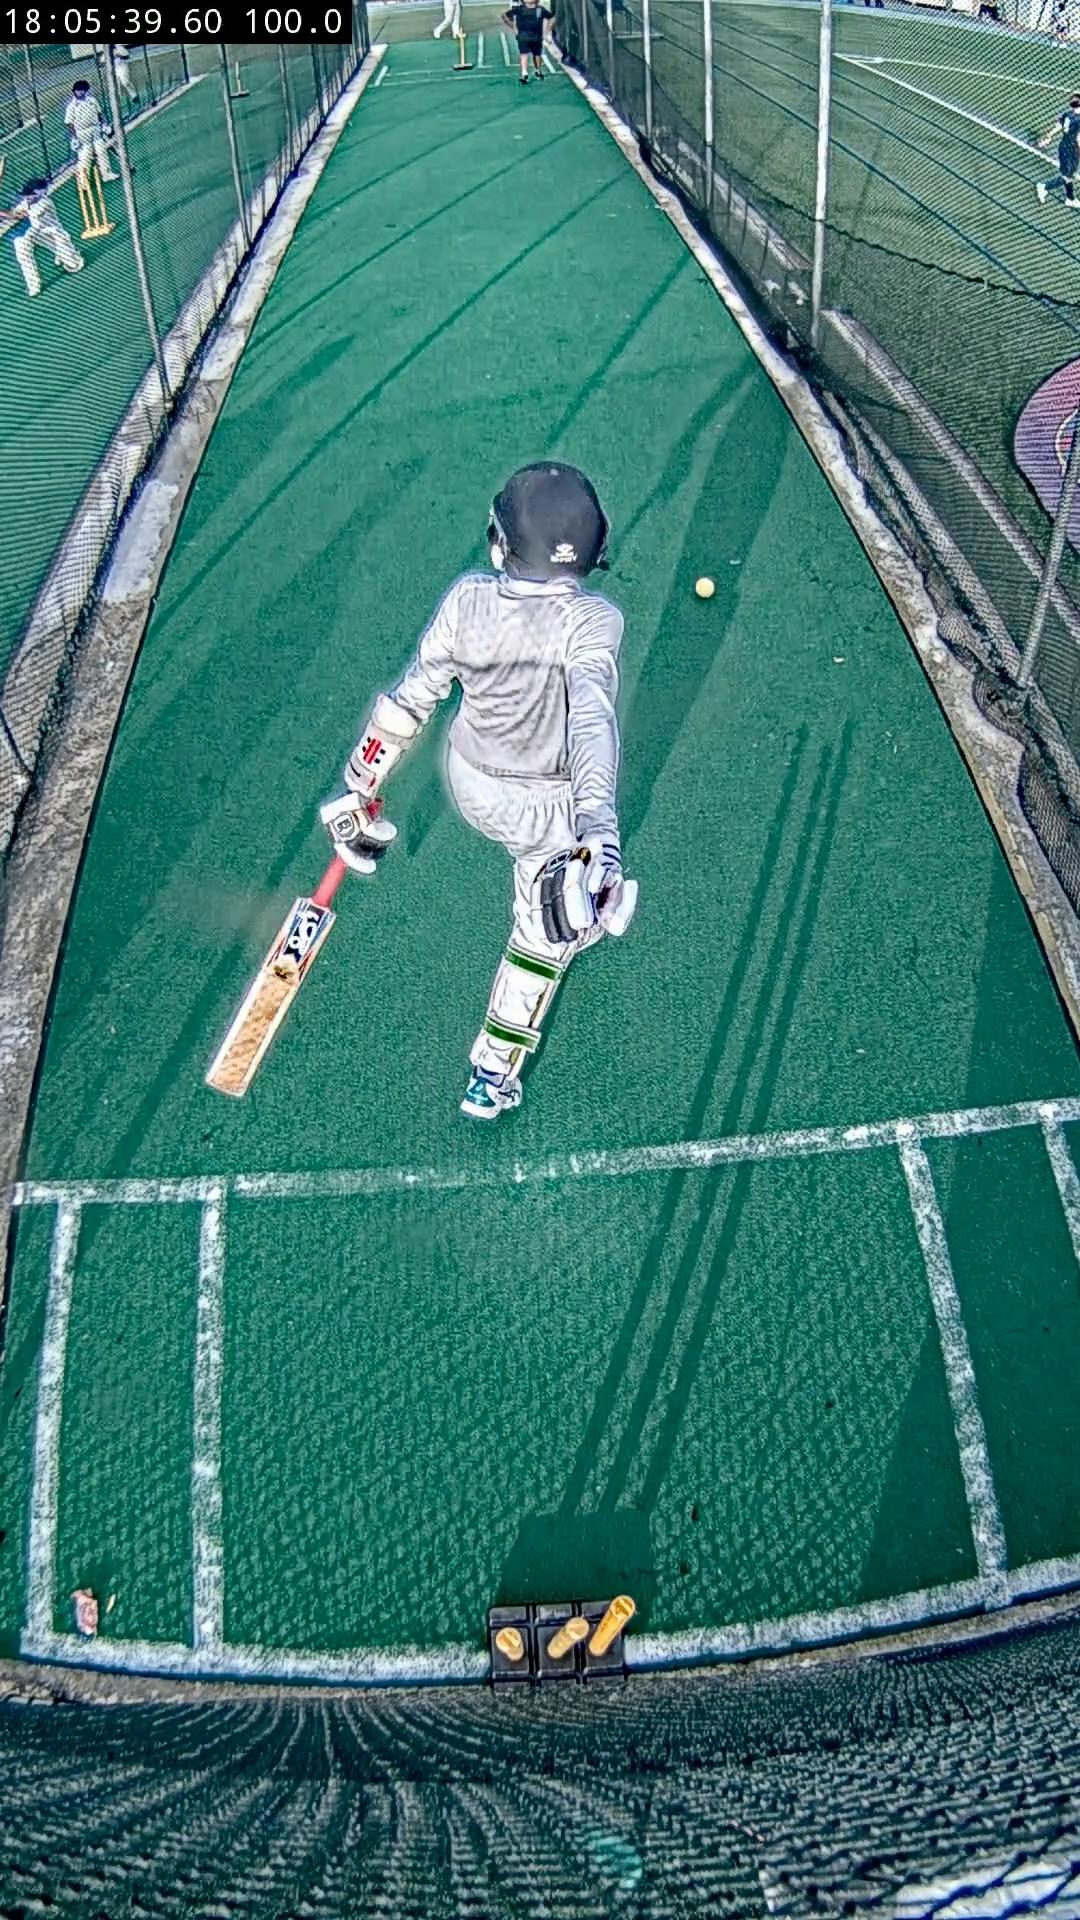ball: (694, 578, 716, 600)
bat: (206, 858, 345, 1098)
gloves: (541, 836, 637, 942), (319, 791, 397, 874)
helmet: (492, 462, 608, 578)
stumps: (488, 1594, 637, 1684)
